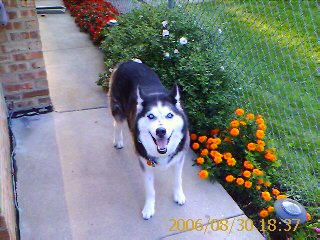dog: (110, 56, 186, 219)
